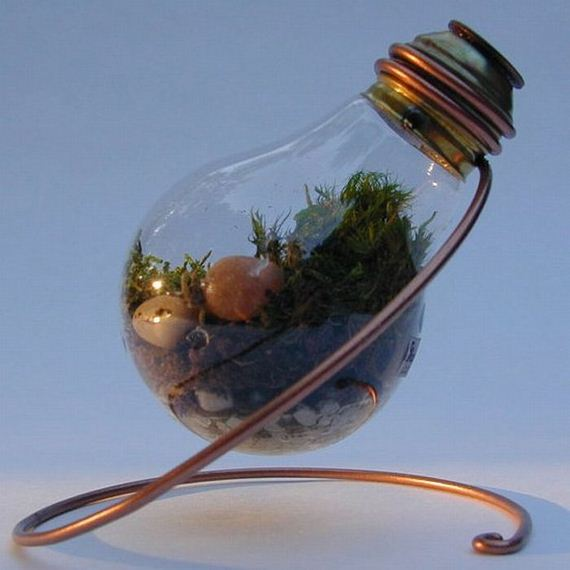Light_bulb: (113, 12, 528, 459)
